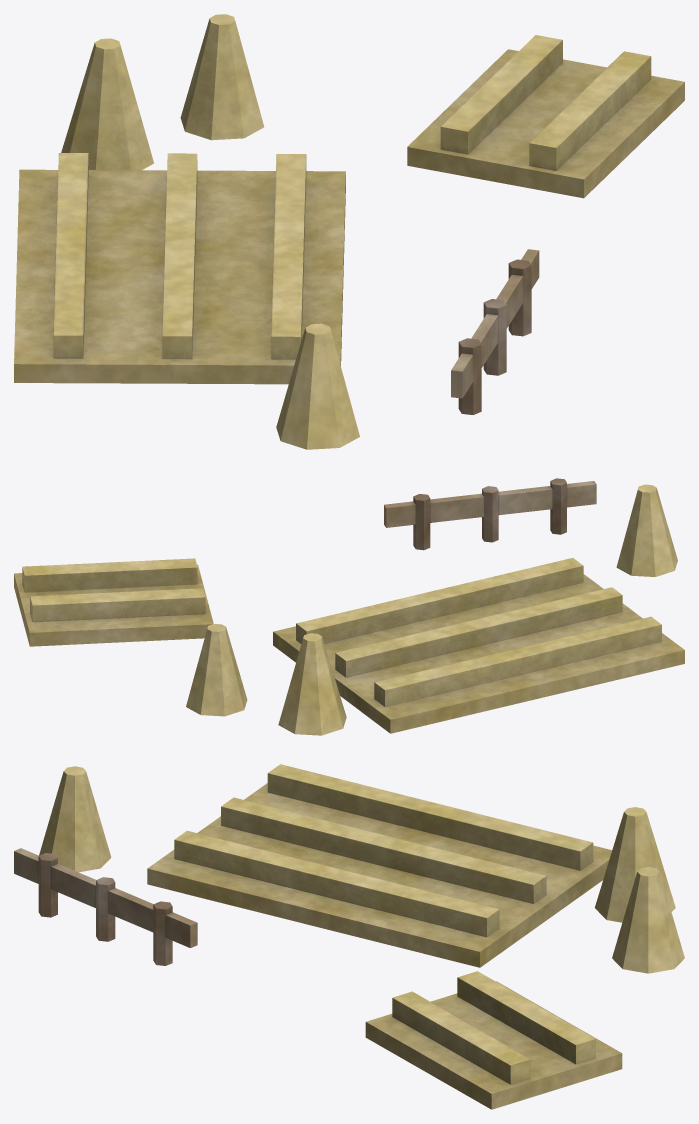
Rendered from res_food_2.glb.
3 views of the same model, one above another, from view 1: azimuth 30°, elevation 25°; view 2: azimuth 150°, elevation 25°; view 3: azimuth 270°, elevation 25° (orthographic). The views are drawn at different scales.
Parts seen in each view (by area): view 1: dilek; view 2: dilek; view 3: dilek.
Part boxes in pixels (x1=…): dilek: x1=14, y1=14, x2=684, y2=449; dilek: x1=14, y1=478, x2=684, y2=735; dilek: x1=14, y1=764, x2=684, y2=1109.
Bounding box in the file's own units: 1.23 × 0.17 × 1.08.
Materials: 1 (1 with a texture image).
